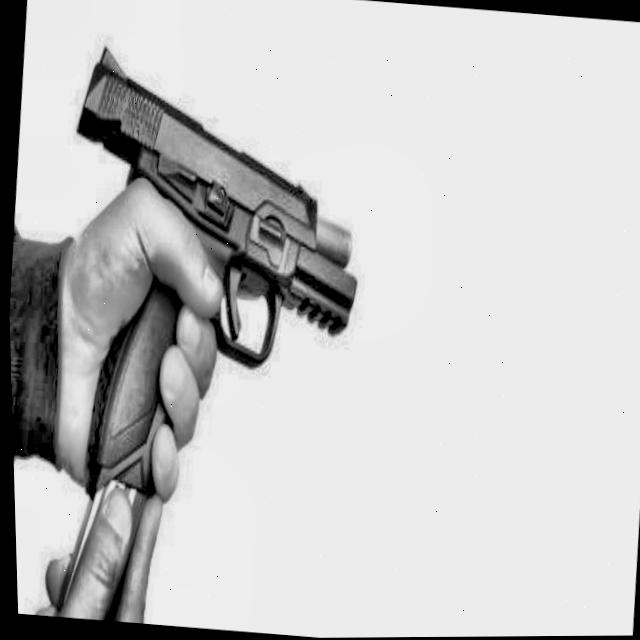pistol: (22, 31, 409, 640)
